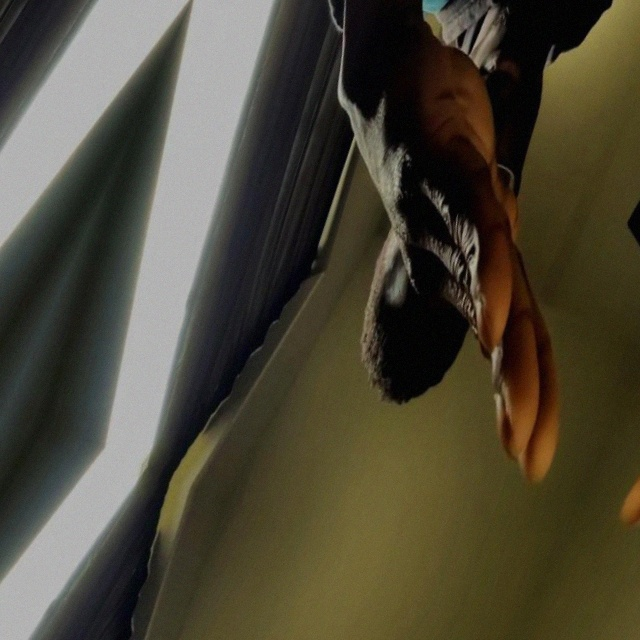Paper: (0, 0, 89, 261)
